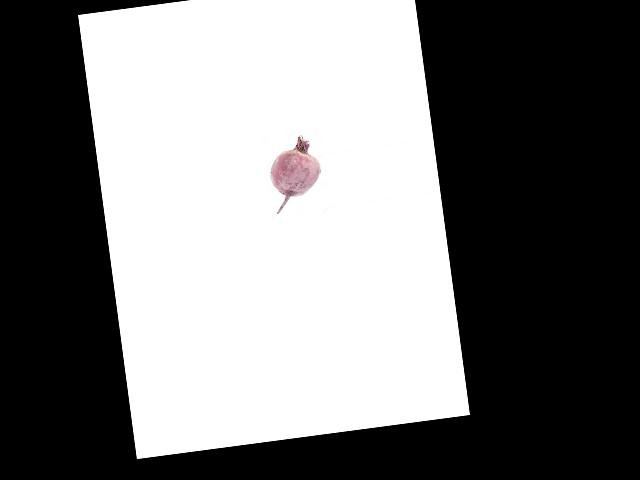beet: (265, 133, 324, 213)
